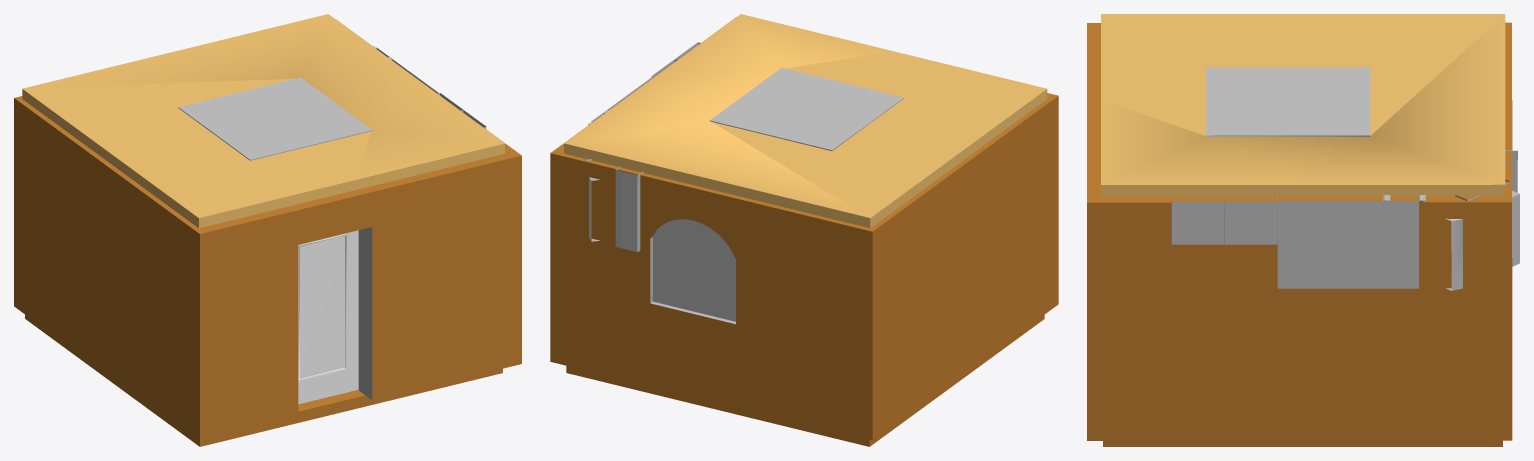
File: FloorPlan25_physics.fbx
3 renders of one model, left to right at view 1: azimuth 30°, elevation 25°; view 2: azimuth 150°, elevation 25°; view 3: azimuth 270°, elevation 25°, orthographic. The views are drawn at different scales.
Visible parts, largest first — view 1: Room.027, Ceiling.003, Door, Floor.003; view 2: Room.027, Ceiling.003, Window, Floor.003, Cube.228; view 3: Room.027, Ceiling.003, Cube.228, Floor.003.
Boxes of the visible parts, x1,y1,x2,y2 form: Room.027: [14, 19, 521, 442]; Ceiling.003: [22, 14, 504, 228]; Door: [298, 230, 357, 404]; Floor.003: [25, 314, 502, 446]; Room.027: [550, 17, 1058, 440]; Ceiling.003: [564, 14, 1047, 228]; Window: [652, 219, 735, 321]; Floor.003: [566, 315, 1044, 446]; Cube.228: [584, 42, 700, 251]; Room.027: [1087, 22, 1512, 440]; Ceiling.003: [1101, 14, 1505, 196]; Cube.228: [1171, 150, 1519, 290]; Floor.003: [1103, 440, 1502, 446].
Size of the model in its own units: 359 by 243 by 361.
